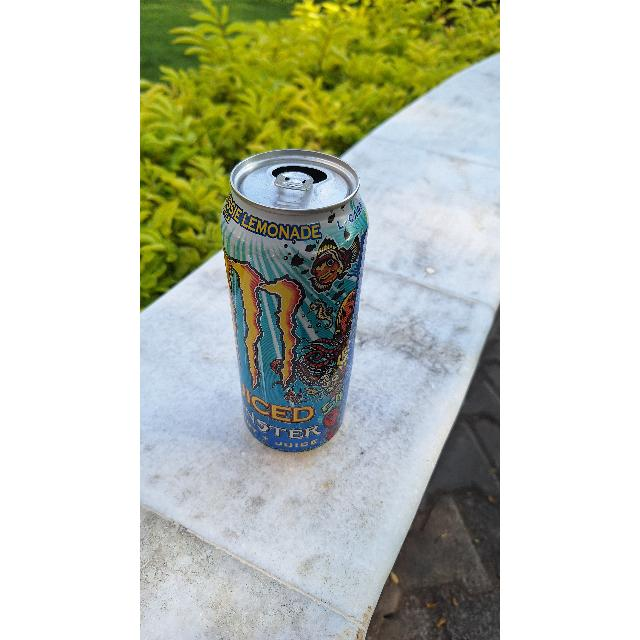Monster Aussie Lemonade: (223, 152, 364, 452)
